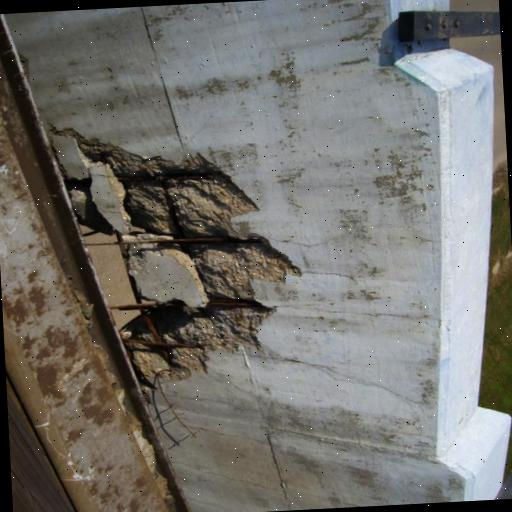spalling: (46, 133, 286, 387)
